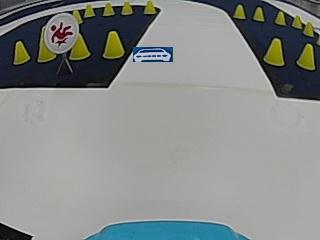cone: (263, 37, 285, 67), (102, 30, 124, 59), (69, 35, 91, 61), (296, 43, 314, 71), (12, 40, 28, 65), (37, 41, 54, 62), (233, 4, 246, 19), (143, 0, 156, 15), (102, 1, 114, 16), (83, 3, 95, 18), (121, 1, 133, 15), (253, 6, 264, 21), (275, 10, 286, 25), (72, 9, 83, 24), (303, 20, 313, 36), (292, 13, 301, 29)
tumble: (46, 15, 76, 48)
